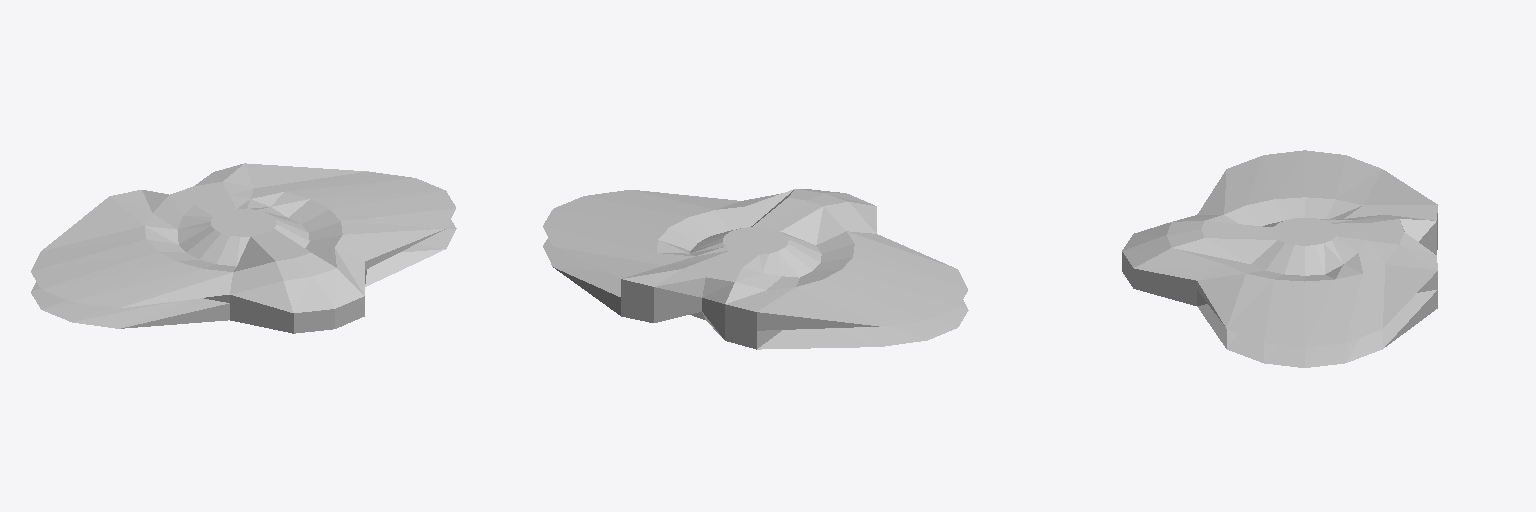
File: Bomber.obj
The picture shows the model from 3 angles: view 1: azimuth 30°, elevation 25°; view 2: azimuth 150°, elevation 25°; view 3: azimuth 270°, elevation 25°; orthographic projection.
Visible parts, largest first — view 1: pCylinder1; view 2: pCylinder1; view 3: pCylinder1.
Boxes of the visible parts, x1=… form: pCylinder1: x1=31, y1=163, x2=456, y2=333; pCylinder1: x1=543, y1=189, x2=968, y2=349; pCylinder1: x1=1122, y1=150, x2=1437, y2=367.
Bounding box in the file's own units: 72.9 × 9.14 × 49.29.